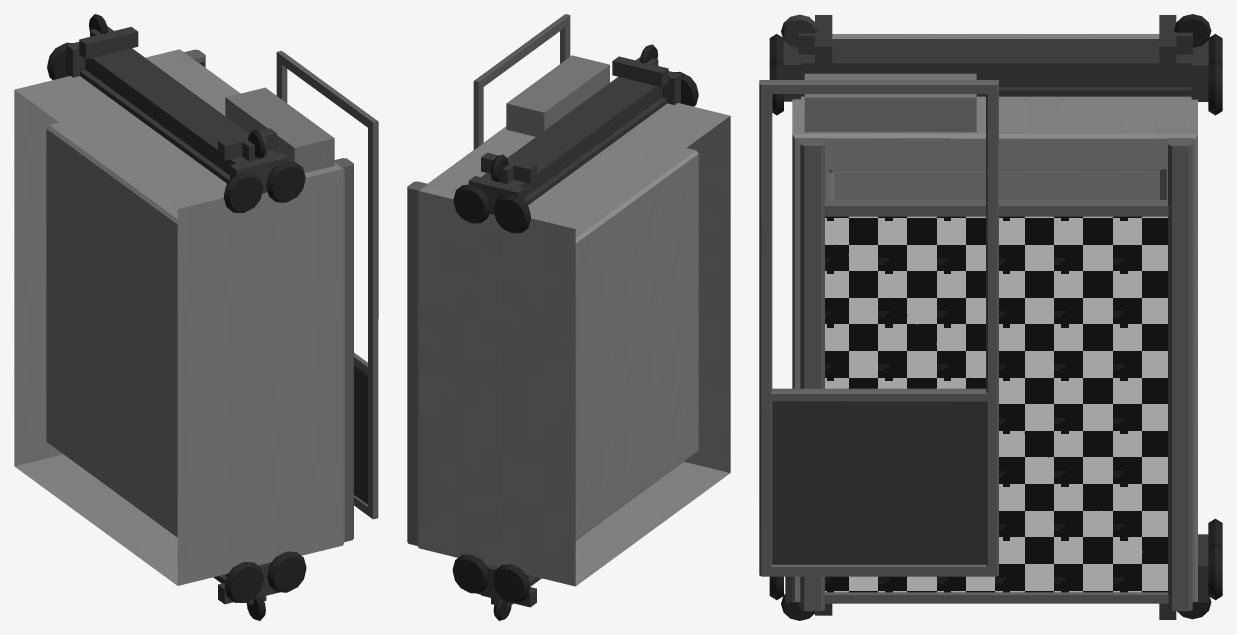
Rendered from carrier_lift_personel.fbx.
The picture shows the model from 3 angles, left to right: view 1: azimuth 30°, elevation 25°; view 2: azimuth 150°, elevation 25°; view 3: azimuth 270°, elevation 25°; orthographic projection. The views are drawn at different scales.
Parts seen in each view (by area): view 1: carrier_lift_personel, carrier_lift_personel_door; view 2: carrier_lift_personel, carrier_lift_personel_door; view 3: carrier_lift_personel_shutter, carrier_lift_personel, carrier_lift_personel_door.
Boxes of the visible parts, bbox=[...] form: carrier_lift_personel: bbox=[14, 14, 353, 620]; carrier_lift_personel_door: bbox=[276, 50, 378, 519]; carrier_lift_personel: bbox=[407, 44, 730, 620]; carrier_lift_personel_door: bbox=[473, 14, 570, 149]; carrier_lift_personel_shutter: bbox=[824, 200, 1168, 603]; carrier_lift_personel: bbox=[769, 14, 1222, 620]; carrier_lift_personel_door: bbox=[759, 80, 998, 576].
Bounding box in the file's own units: 136 × 337 × 233.
Materials: 2 (2 with a texture image).
